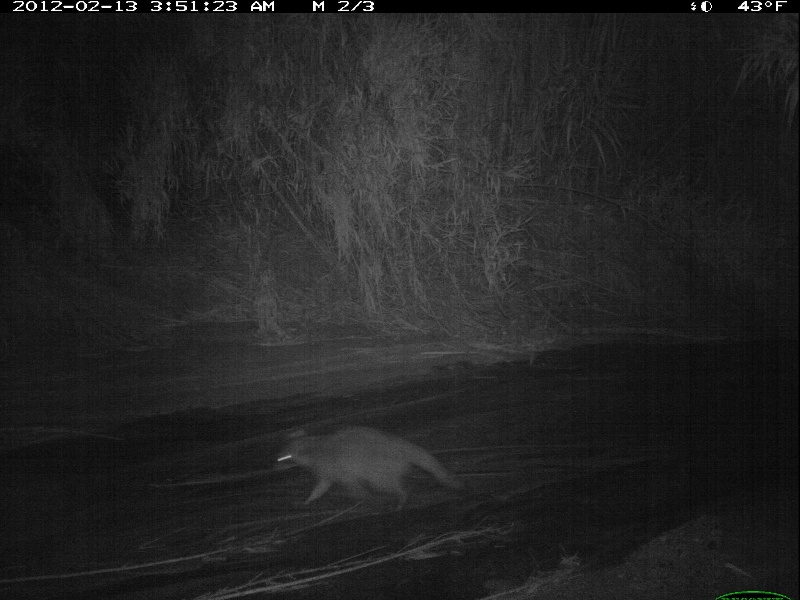raccoon: (267, 424, 464, 514)
